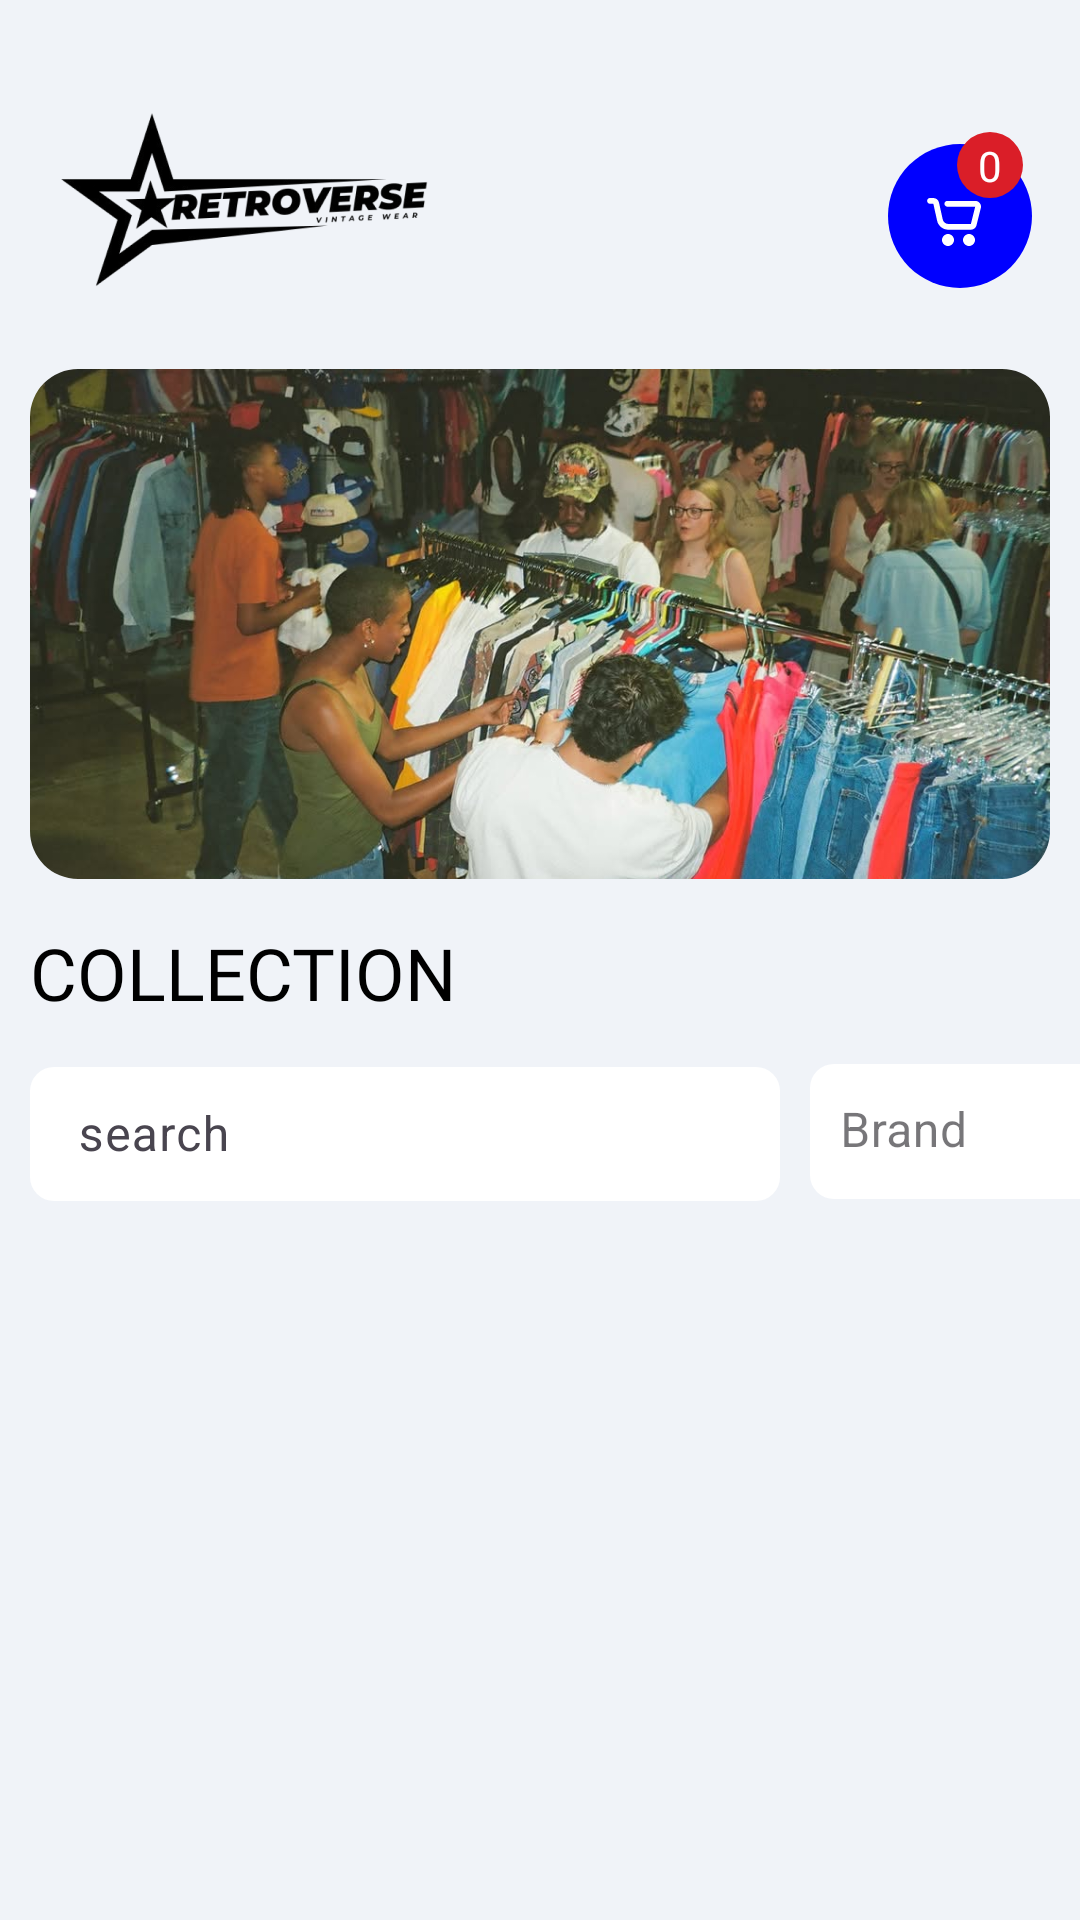

Named icons in this screenshot (1080x1920) and their centers, point (x, y):
badge: point (990, 165)
